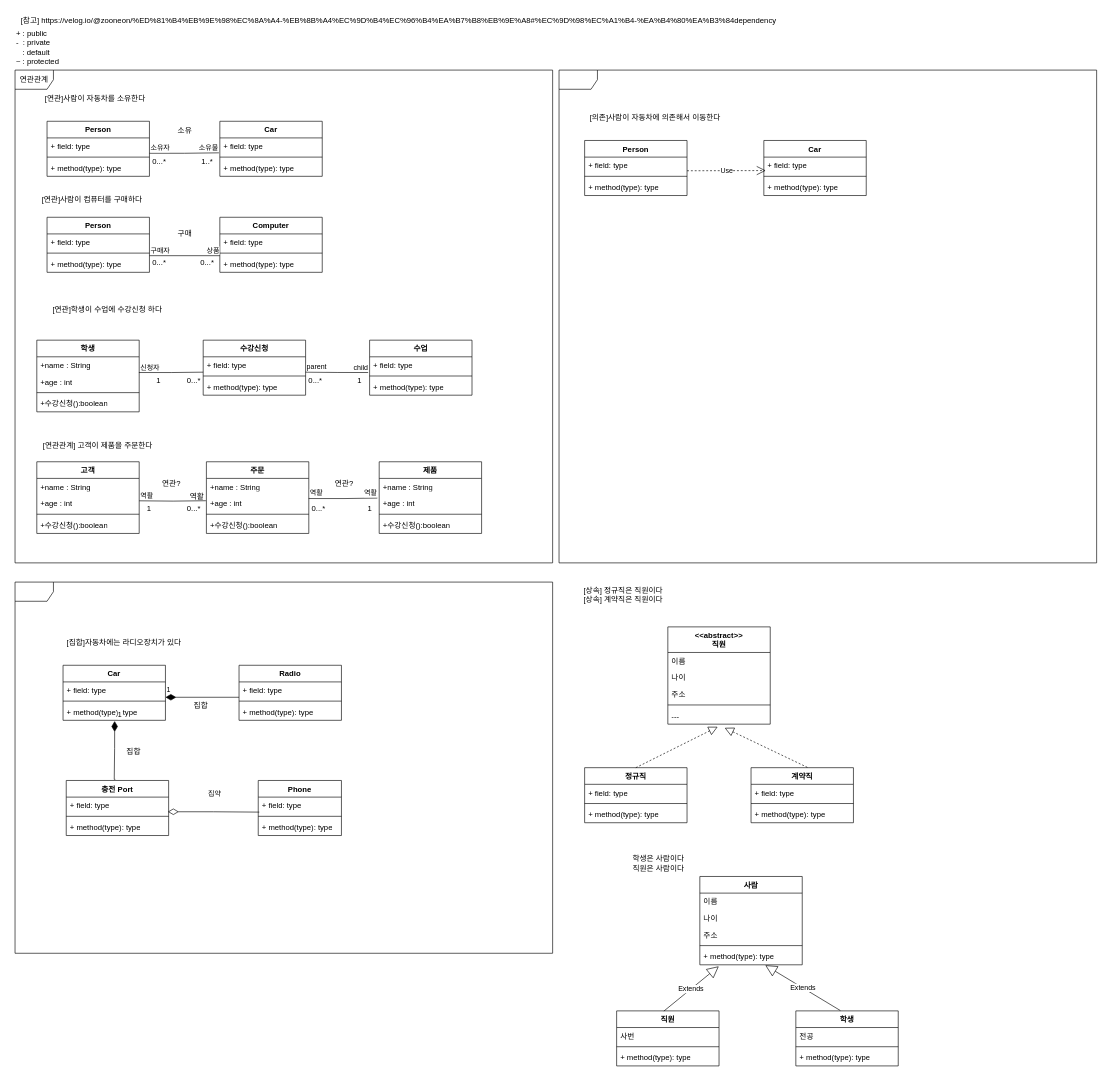
This 1108x1078 diagram has some shape labels left out. Here are the shapes that lost their labels. From the top down, the centre of each, then its label:
At point 827,316: "의존관계".
At point 283,767: "집합/집약".
